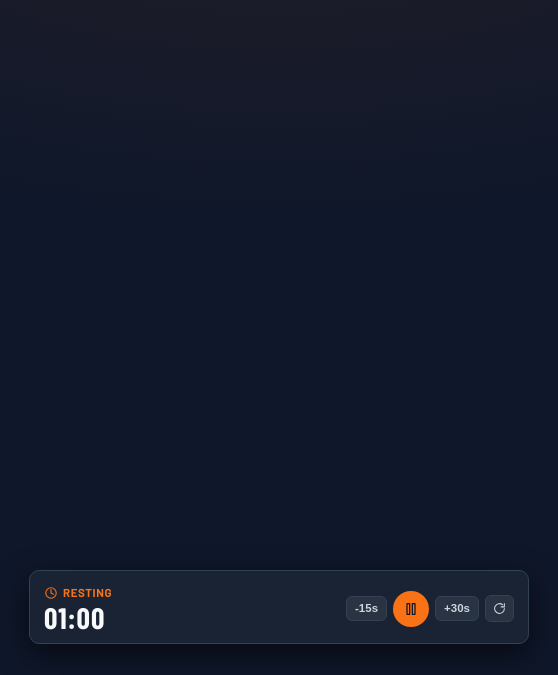
Test: RestTimer Component › adjusts time with +30s and -15s buttons
Step 1. Click the button named "add 30 seconds" → click(457, 609), box [435,596,479,621]
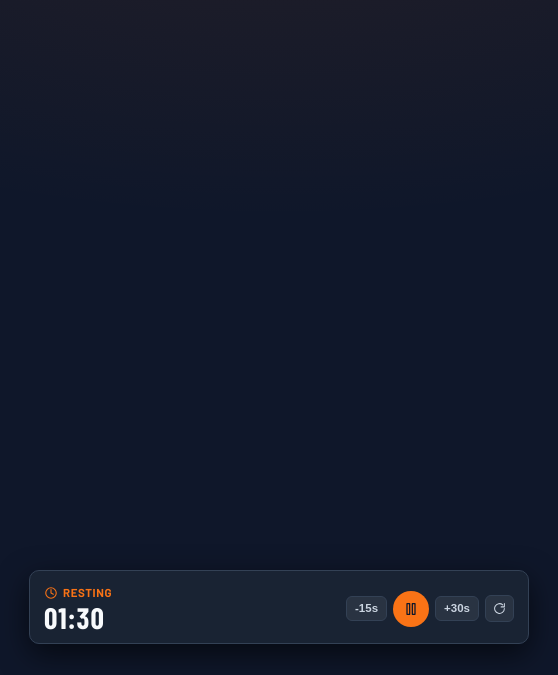
Now the text with test id "rest-timer-digits" reads "01:30", box [44,599,105,635]
Step 2. Click the button named "subtract 15 seconds" → click(367, 609), box [346,596,387,621]
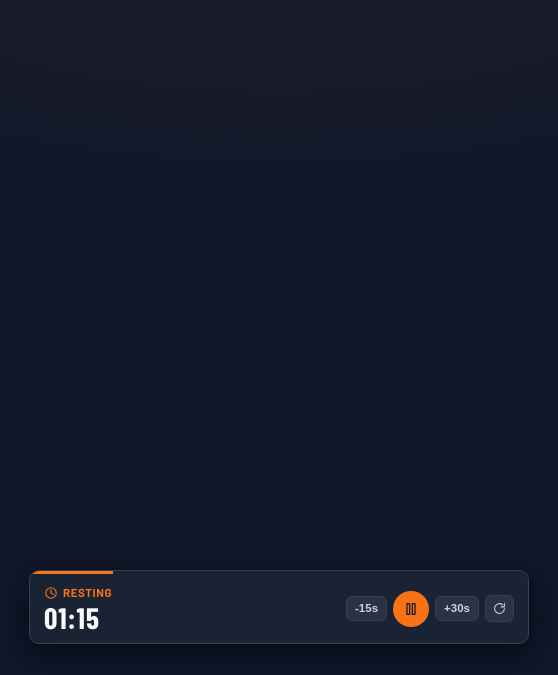
Now the text with test id "rest-timer-digits" reads "01:15", box [44,599,100,635]
